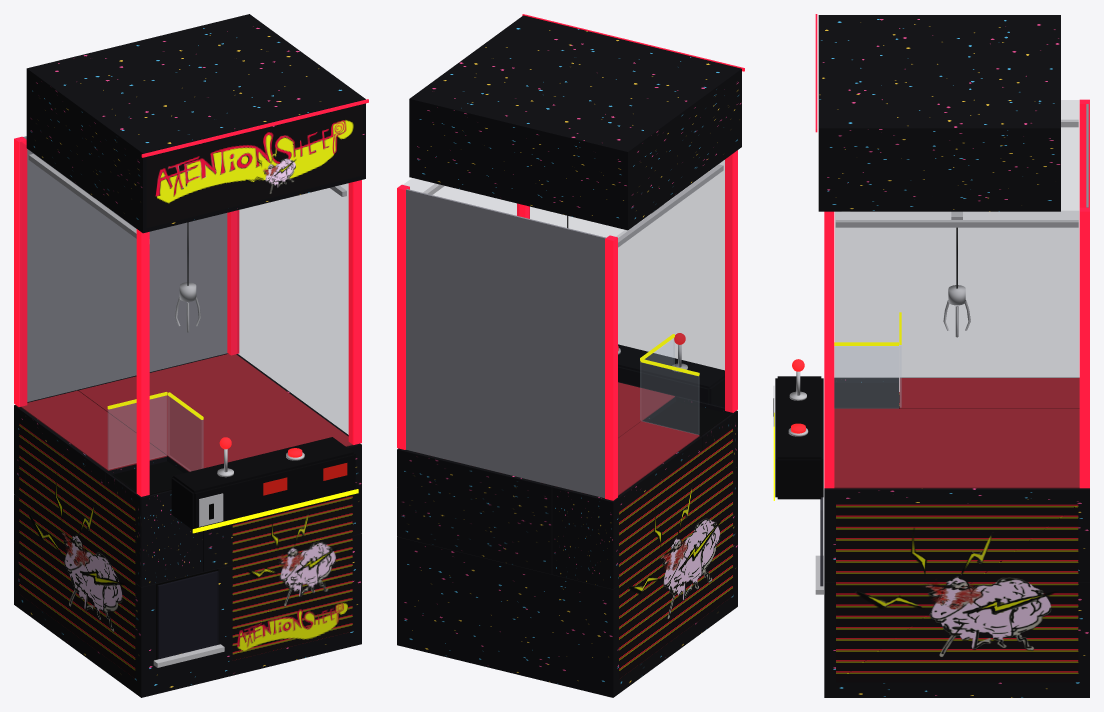
File: claw_sheep.glb
3 views of the same model, side by side, from view 1: azimuth 30°, elevation 25°; view 2: azimuth 150°, elevation 25°; view 3: azimuth 270°, elevation 25° (orthographic). The views are drawn at different scales.
Parts seen in each view (by area): view 1: marquee_box, mirror_back, art_side_L, art_front, pit_floor_a, marquee, base, deck, pit_floor_b, prize_mouth, prize_door, base_skin_f (+15 smaller); view 2: mirror_back, marquee_box, base, art_side_L, base_up_a, base_up_b, deck, chute_wall_x, post3, post0, pit_floor_b, post2 (+4 smaller); view 3: marquee_box, art_side_R, pit_floor_a, base, base_up_a, deck, pit_floor_b, chute_wall_y, post2, post1, rail_R, chute_well (+1 smaller).
Boxes of the visible parts, box(x1,y1,x2,y2) form: marquee_box: box(26, 14, 365, 233); mirror_back: box(23, 136, 227, 401); art_side_L: box(19, 423, 135, 678); art_front: box(232, 496, 352, 660); pit_floor_a: box(78, 354, 352, 471); marquee: box(146, 105, 362, 227); base: box(14, 494, 361, 697); deck: box(171, 437, 355, 529); pit_floor_b: box(21, 390, 166, 470); prize_mouth: box(156, 569, 218, 659); prize_door: box(157, 571, 218, 658); base_skin_f: box(140, 490, 203, 586); mirror_back: box(406, 189, 605, 498); marquee_box: box(409, 15, 741, 230); base: box(397, 498, 737, 697); art_side_L: box(619, 429, 732, 678); base_up_a: box(397, 381, 676, 574); base_up_b: box(552, 436, 702, 589); deck: box(618, 344, 724, 407); chute_wall_x: box(641, 362, 699, 434); post3: box(605, 235, 617, 500); post0: box(725, 150, 737, 412); pit_floor_b: box(618, 421, 699, 495); post2: box(397, 184, 409, 449); marquee_box: box(818, 15, 1060, 211); art_side_R: box(836, 504, 1078, 682); pit_floor_a: box(834, 408, 1079, 488); base: box(824, 582, 1089, 697); base_up_a: box(824, 488, 1089, 582); deck: box(775, 376, 823, 499); pit_floor_b: box(899, 378, 1079, 408); chute_wall_y: box(834, 346, 898, 408); post2: box(1079, 207, 1089, 488); post1: box(824, 211, 834, 488); rail_R: box(835, 220, 1078, 227); chute_well: box(834, 383, 898, 408).
Bounding box in the file's own units: 0.944 × 2.18 × 1.1.
Materials: 18 (4 with a texture image).
